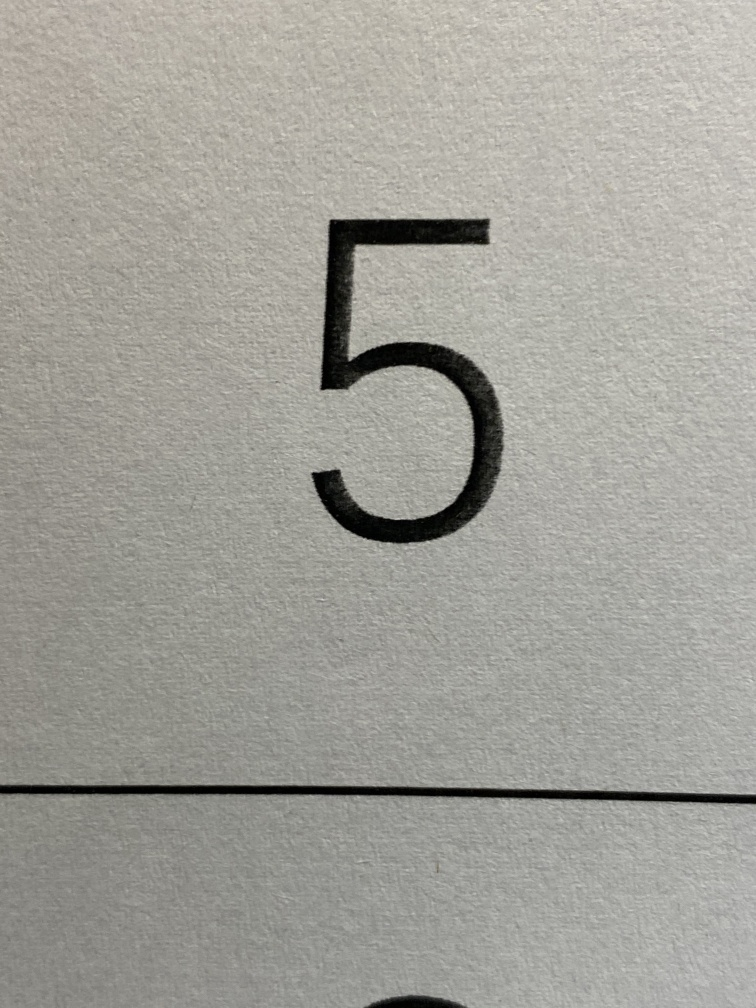five: (250, 168, 561, 604)
